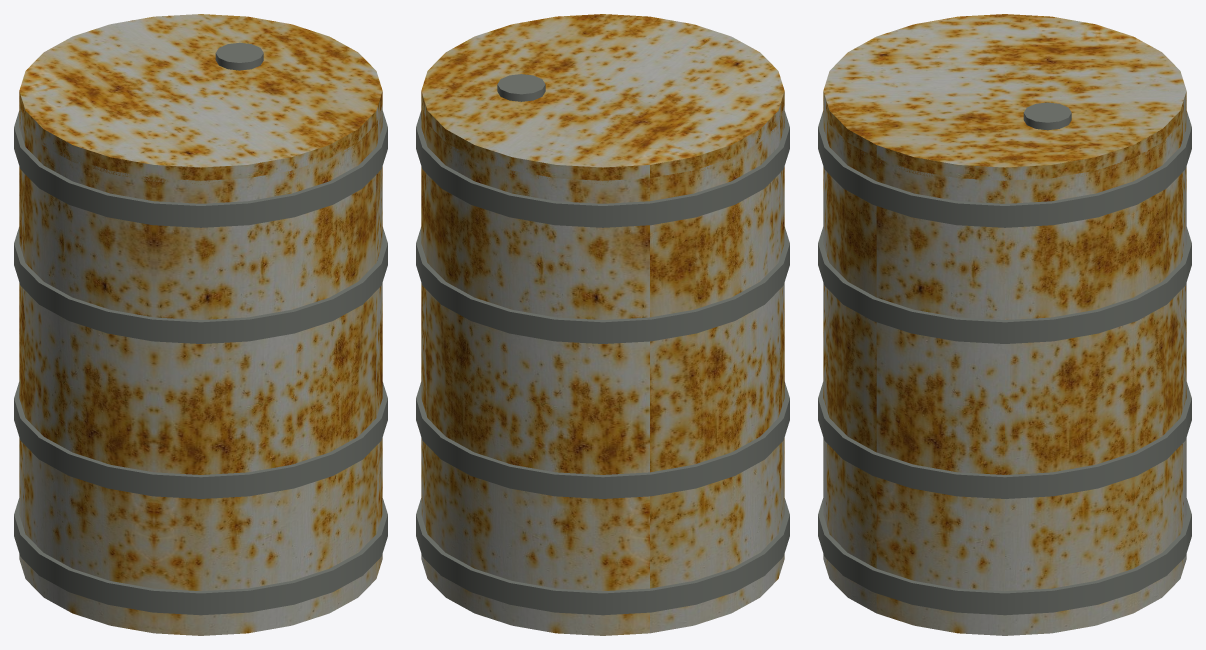
File: rusty_barrel.glb
3 views of the same model, side by side, from view 1: azimuth 30°, elevation 25°; view 2: azimuth 150°, elevation 25°; view 3: azimuth 270°, elevation 25° (orthographic).
Visible parts, largest first — view 1: Barrel_body, Barrel_top, Barrel_rib_0.88, Barrel_rib_0.64, Barrel_rib_0.08, Barrel_rib_0.32, Barrel_bung; view 2: Barrel_body, Barrel_top, Barrel_rib_0.88, Barrel_rib_0.64, Barrel_rib_0.08, Barrel_rib_0.32, Barrel_bung; view 3: Barrel_body, Barrel_top, Barrel_rib_0.88, Barrel_rib_0.64, Barrel_rib_0.08, Barrel_rib_0.32, Barrel_bung.
Boxes of the visible parts, x1=… form: Barrel_body: x1=19, y1=105, x2=382, y2=635; Barrel_top: x1=19, y1=14, x2=382, y2=183; Barrel_rib_0.88: x1=14, y1=111, x2=387, y2=227; Barrel_rib_0.64: x1=14, y1=227, x2=387, y2=343; Barrel_rib_0.08: x1=14, y1=498, x2=387, y2=615; Barrel_rib_0.32: x1=14, y1=382, x2=387, y2=498; Barrel_bung: x1=215, y1=42, x2=263, y2=70; Barrel_body: x1=421, y1=105, x2=784, y2=635; Barrel_top: x1=421, y1=14, x2=784, y2=181; Barrel_rib_0.88: x1=416, y1=111, x2=789, y2=227; Barrel_rib_0.64: x1=416, y1=227, x2=789, y2=343; Barrel_rib_0.08: x1=416, y1=498, x2=789, y2=615; Barrel_rib_0.32: x1=416, y1=382, x2=789, y2=498; Barrel_bung: x1=497, y1=74, x2=545, y2=101; Barrel_body: x1=823, y1=105, x2=1186, y2=635; Barrel_top: x1=823, y1=14, x2=1186, y2=181; Barrel_rib_0.88: x1=818, y1=111, x2=1191, y2=227; Barrel_rib_0.64: x1=818, y1=227, x2=1191, y2=343; Barrel_rib_0.08: x1=818, y1=498, x2=1191, y2=615; Barrel_rib_0.32: x1=818, y1=382, x2=1191, y2=498; Barrel_bung: x1=1023, y1=102, x2=1071, y2=130.
Bounding box in the file's own units: 0.7 × 0.983 × 0.7.
2 materials, 1 textured.
